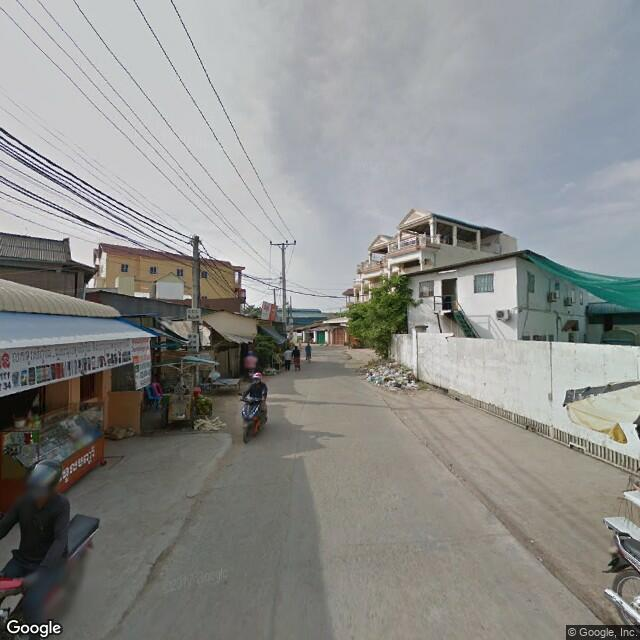litter: (358, 362, 419, 395)
